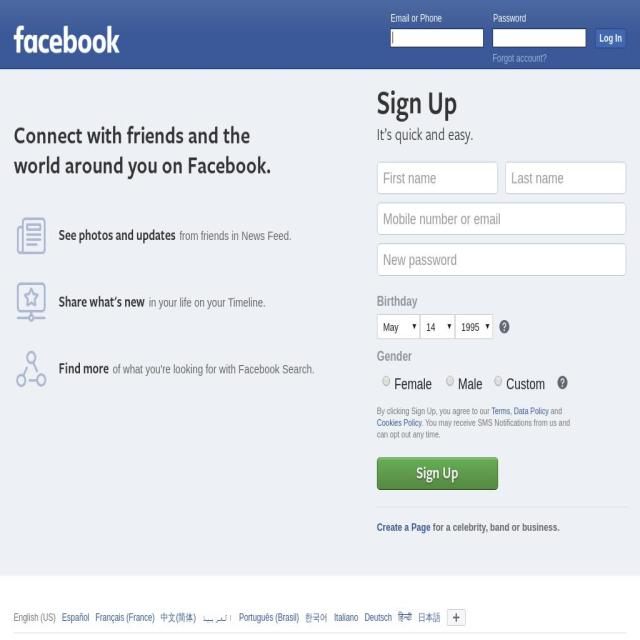button: (376, 457, 498, 490), (14, 42, 120, 56), (447, 609, 466, 626), (499, 319, 509, 336), (558, 376, 568, 392)
field: (376, 243, 626, 276), (376, 203, 626, 235), (376, 162, 498, 194), (504, 162, 626, 194), (390, 28, 484, 48), (492, 28, 586, 48), (376, 314, 420, 339), (454, 314, 494, 339), (419, 314, 455, 339), (599, 31, 622, 46), (494, 376, 504, 386), (382, 376, 391, 386), (446, 376, 455, 386)
heading: (13, 121, 298, 181), (376, 86, 626, 122), (14, 25, 120, 53)
image: (14, 279, 48, 326), (14, 213, 48, 259), (14, 346, 48, 392), (499, 319, 509, 333), (558, 376, 568, 390), (452, 612, 460, 622)
label: (504, 375, 552, 393), (392, 375, 438, 393), (390, 12, 442, 24), (456, 375, 489, 393), (492, 12, 526, 24)
link: (376, 520, 431, 533), (239, 612, 299, 623), (95, 612, 154, 623), (492, 53, 547, 64), (376, 417, 422, 428), (514, 405, 549, 416), (161, 612, 196, 623), (202, 612, 233, 623), (62, 612, 90, 623), (364, 612, 392, 623), (334, 612, 358, 623), (305, 612, 328, 623), (418, 612, 441, 623), (491, 405, 511, 416), (398, 612, 413, 623)
text: (376, 126, 626, 145), (376, 292, 626, 310), (376, 347, 626, 365), (376, 417, 570, 439), (110, 362, 314, 376), (58, 227, 175, 244), (146, 295, 266, 309), (430, 520, 559, 533), (177, 228, 291, 242), (59, 293, 145, 311), (376, 405, 492, 416), (59, 360, 109, 378), (14, 611, 56, 624), (548, 405, 562, 416), (510, 405, 514, 416)
